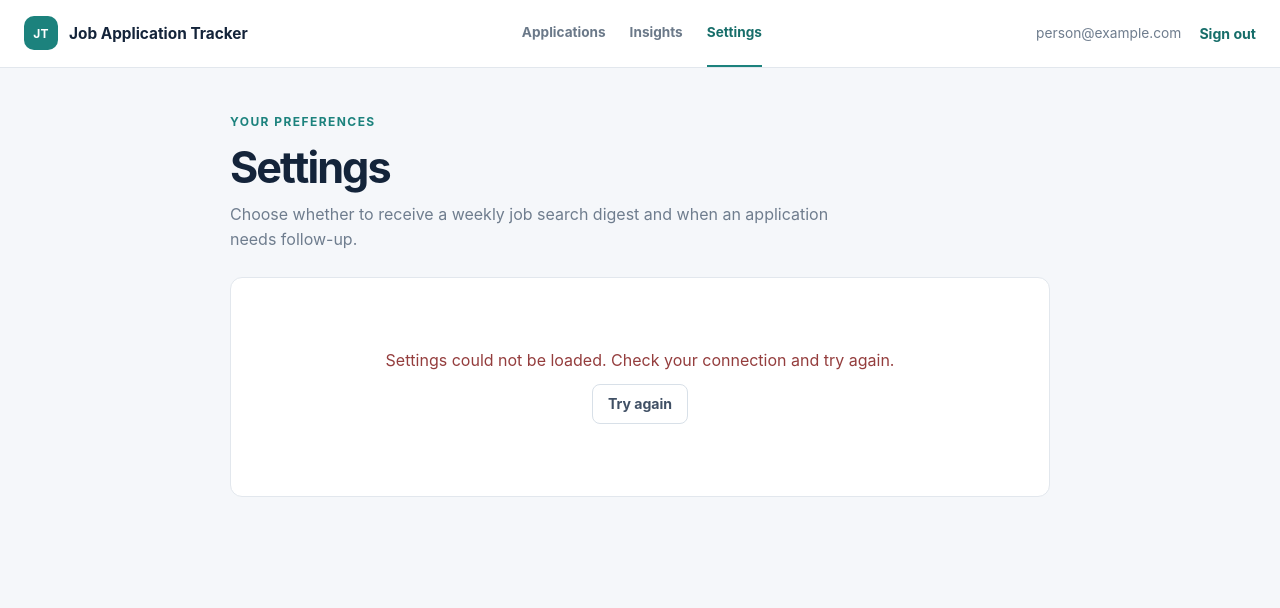
SettingsPage › can retry after the settings request fails
Expected: the message shows "Settings could not be loaded", [386, 350, 894, 370]
Step 1. Click the button "Try again" → (640, 404), box [592, 384, 688, 424]
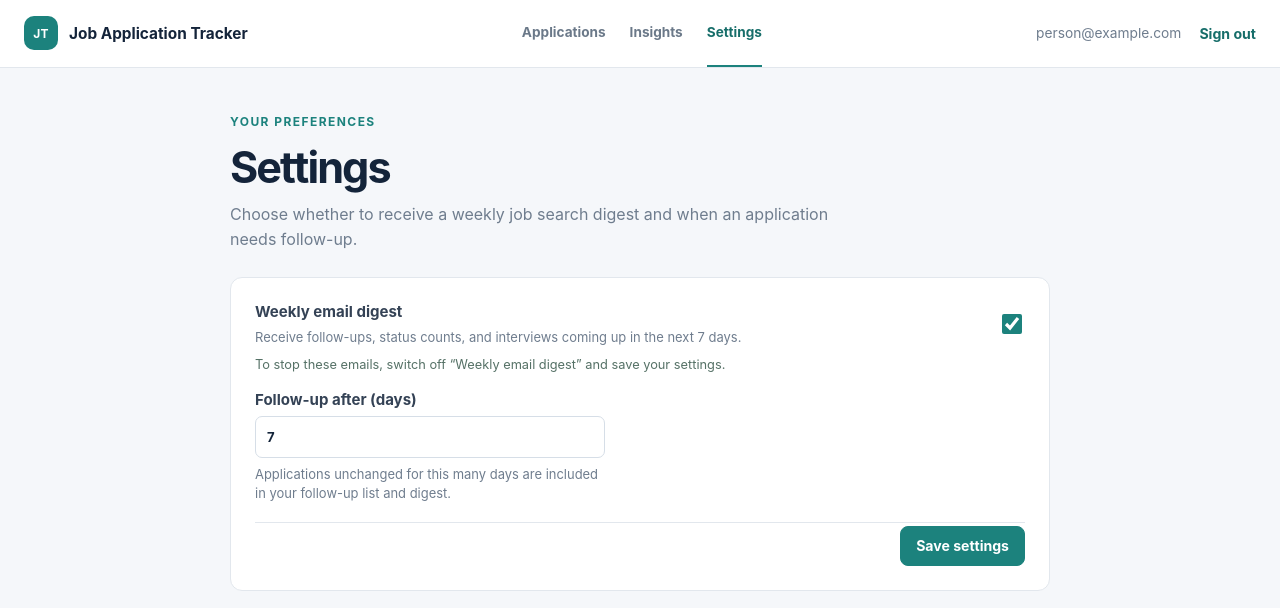
Result: the checkbox labelled "Weekly email digest" is shown at [1002, 314, 1022, 334]
